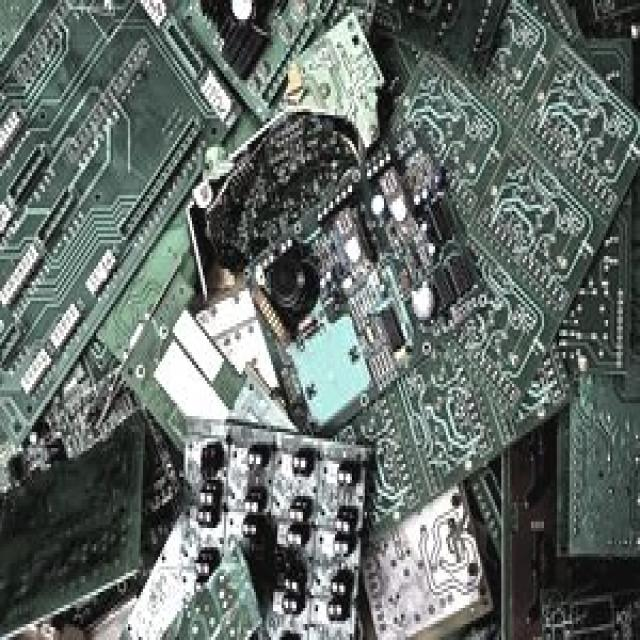heap: (4, 8, 640, 621)
metel: (254, 113, 483, 423), (171, 411, 390, 620)
